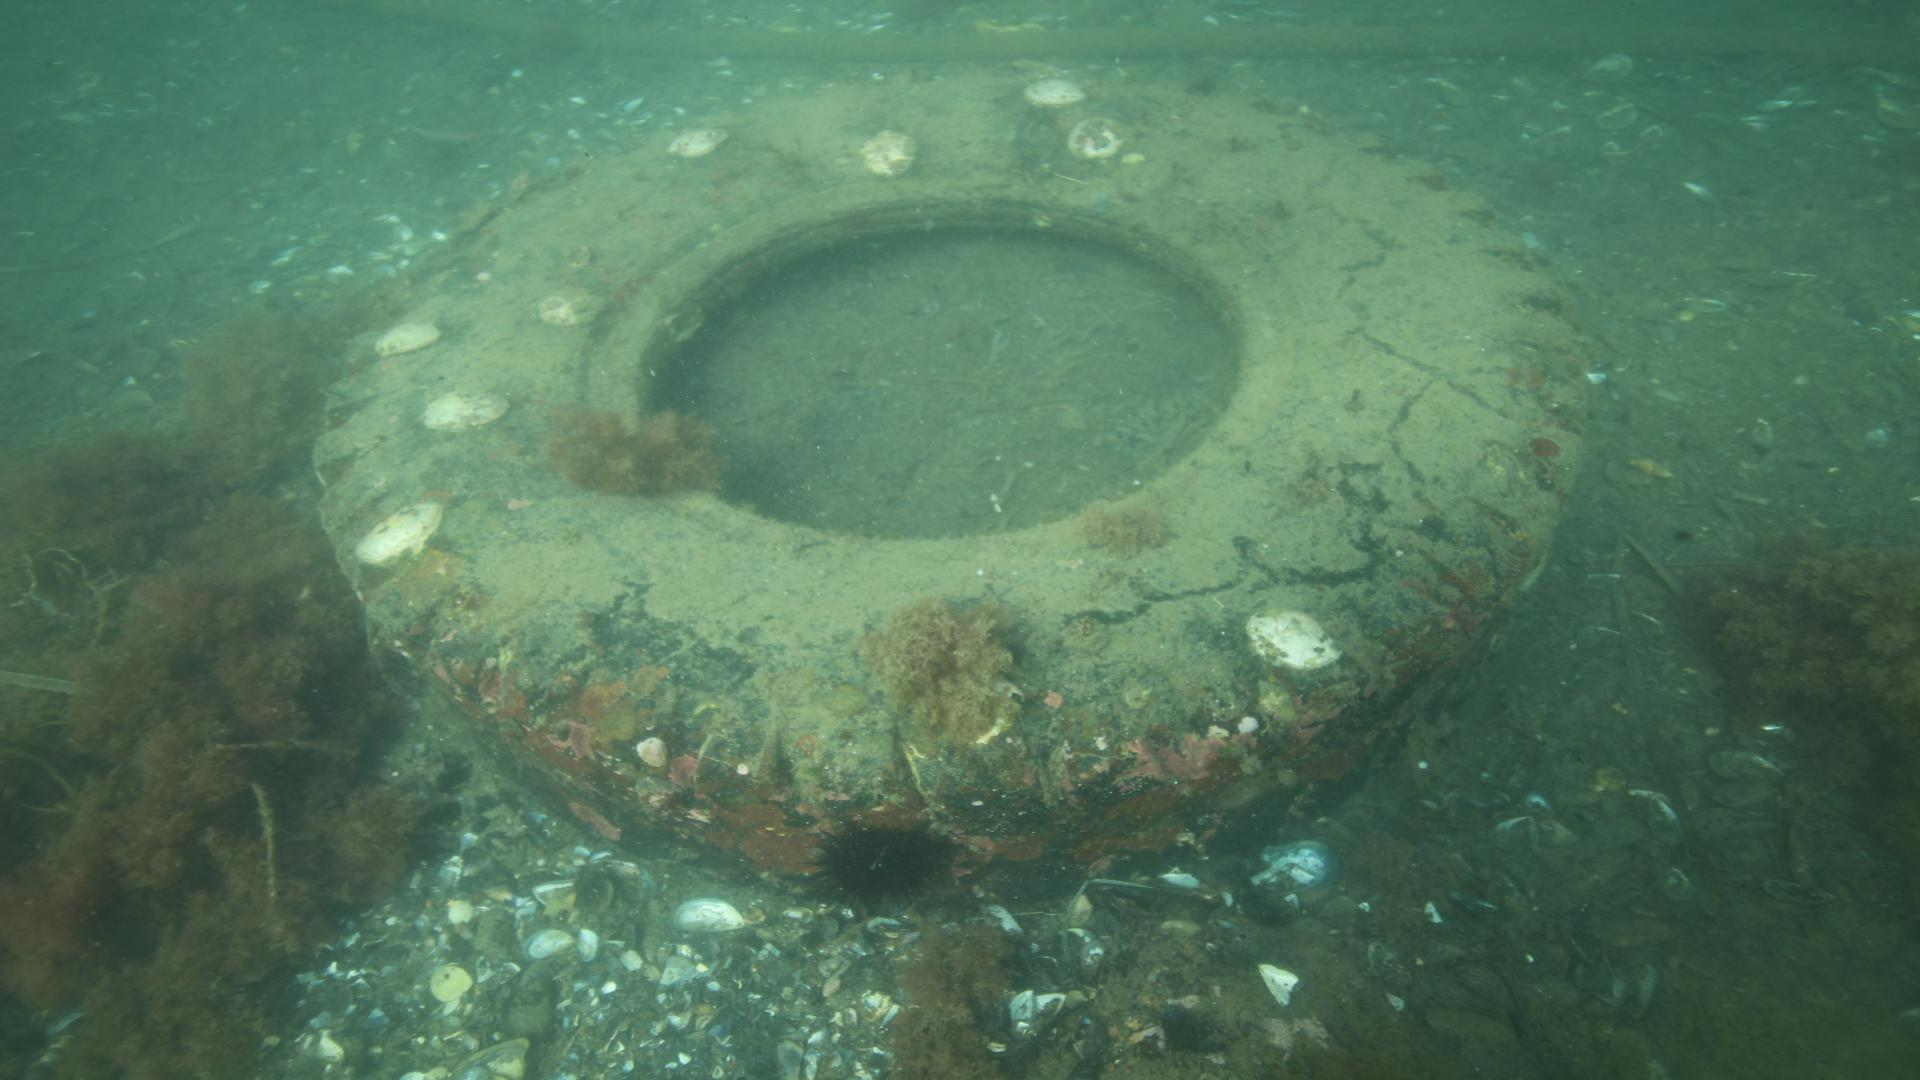tire: (313, 65, 1586, 907)
